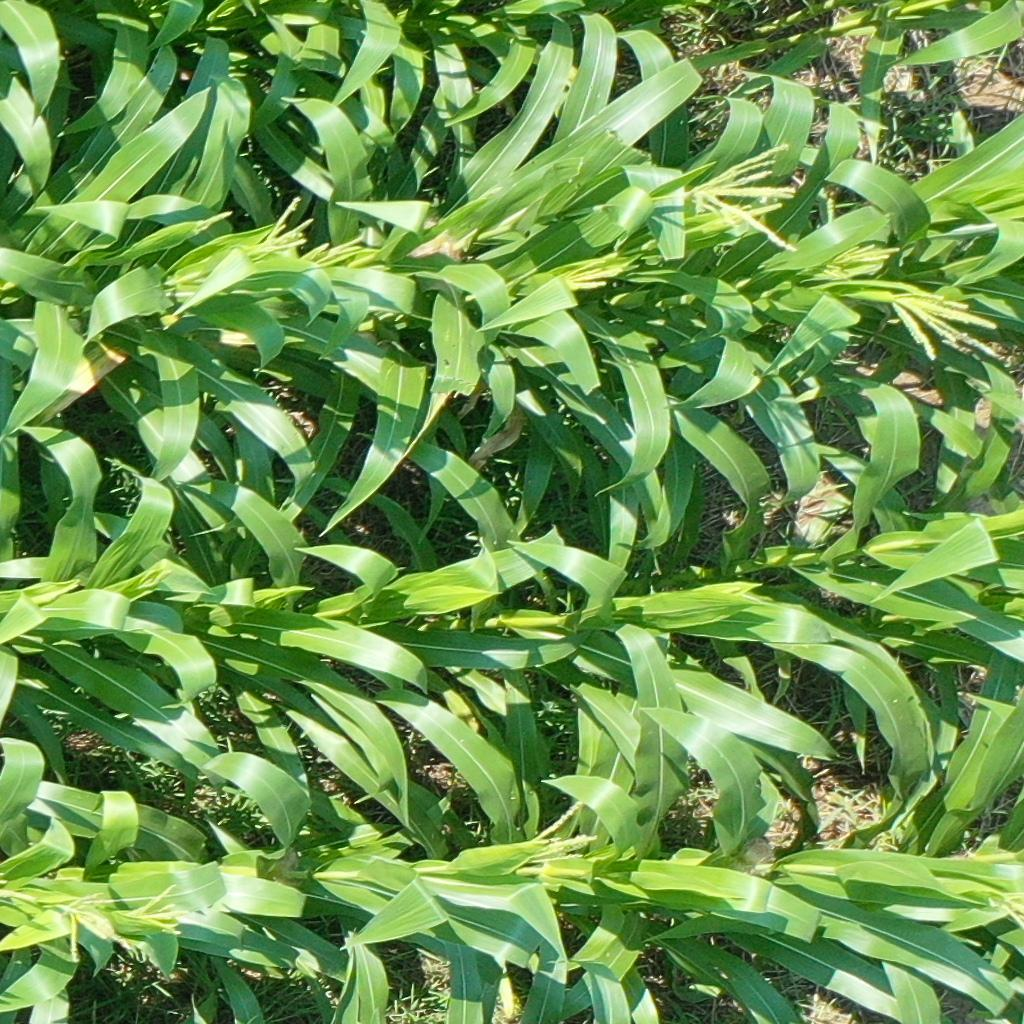Tassel: (691, 143, 803, 258), (894, 290, 1004, 365), (520, 798, 602, 871), (57, 893, 128, 958), (238, 193, 309, 256), (815, 237, 902, 287), (546, 253, 630, 300), (132, 878, 192, 940), (310, 236, 368, 274), (996, 885, 1024, 927)
